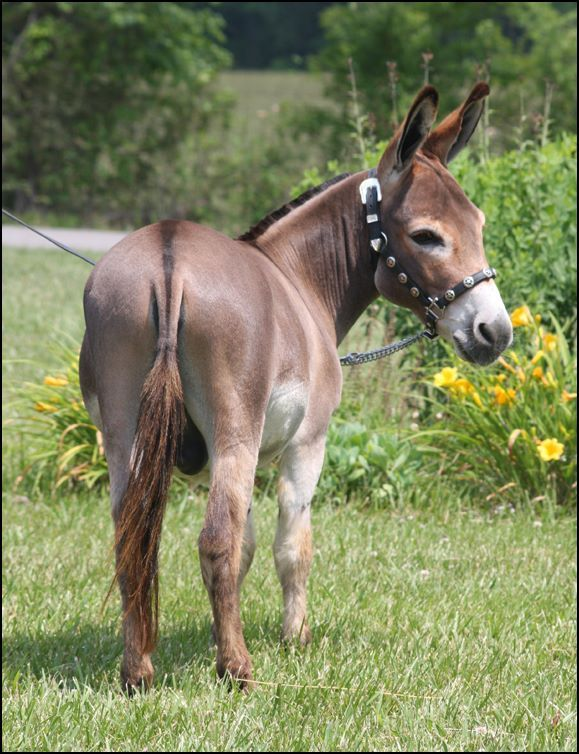donkey: (57, 68, 517, 701)
